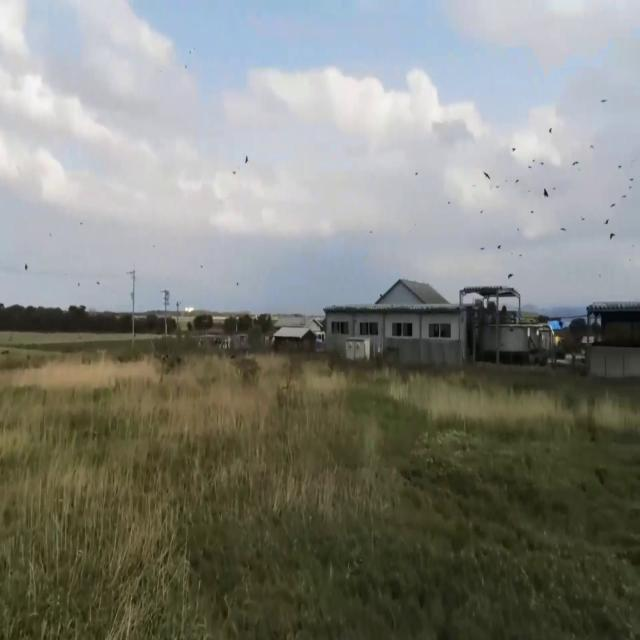bird: (483, 165, 491, 186)
